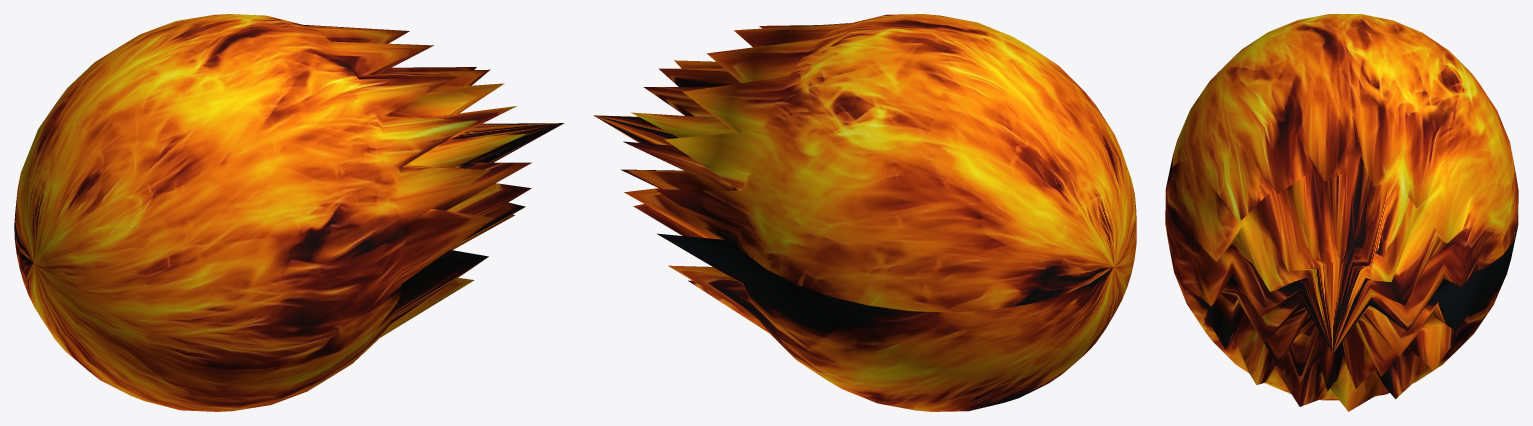
The picture shows the model from 3 angles, left to right: view 1: azimuth 30°, elevation 25°; view 2: azimuth 150°, elevation 25°; view 3: azimuth 270°, elevation 25°; orthographic projection. The views are drawn at different scales.
Visible parts, largest first — view 1: Sphere001; view 2: Sphere001; view 3: Sphere001.
Part boxes in pixels (x1,y1,x2,y2): Sphere001: (14,14,564,411); Sphere001: (593,14,1136,411); Sphere001: (1165,14,1518,411).
Size of the model in its own units: 80.76 by 53.18 by 49.24.
Materials: 1 (1 with a texture image).
